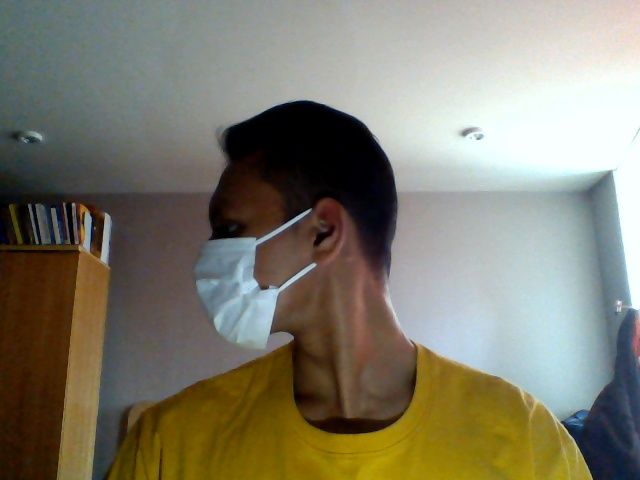mask: (194, 235, 288, 351)
